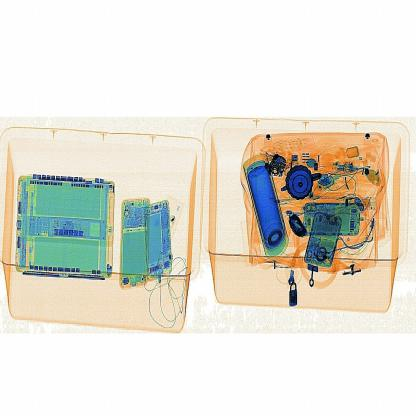scissors: (284, 205, 326, 245)
